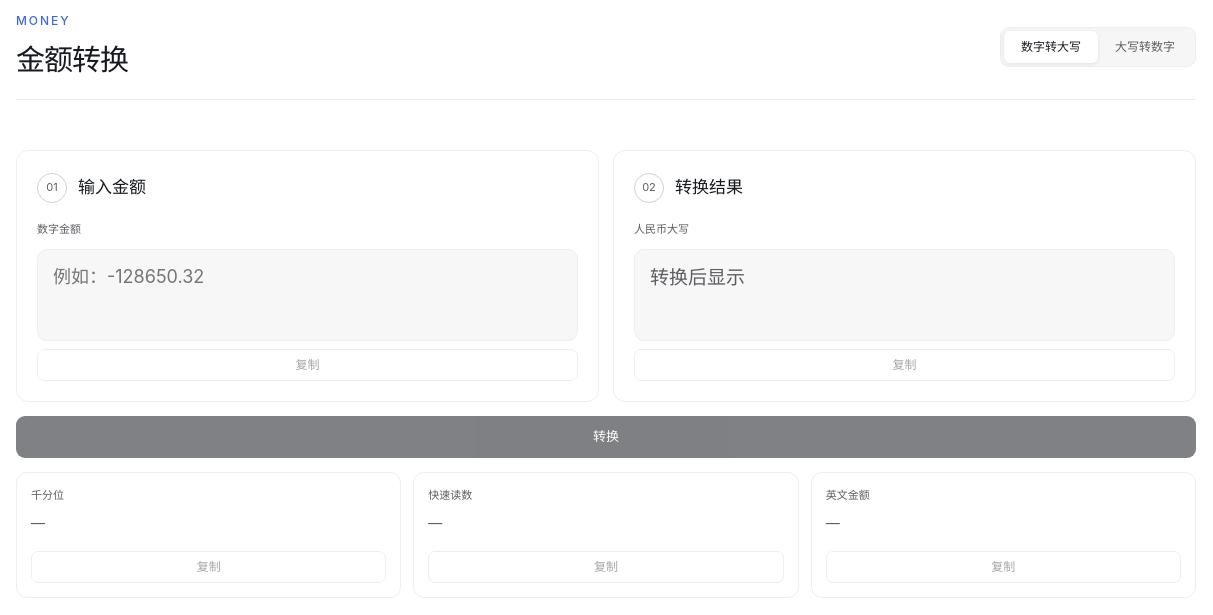
Test: normalizes round to yuan in the input panel and carries the canonical pair
The width and height of the screenshot is (1213, 615).
Click the button "大写转数字".
click(1145, 47)  # box [1098, 31, 1192, 63]
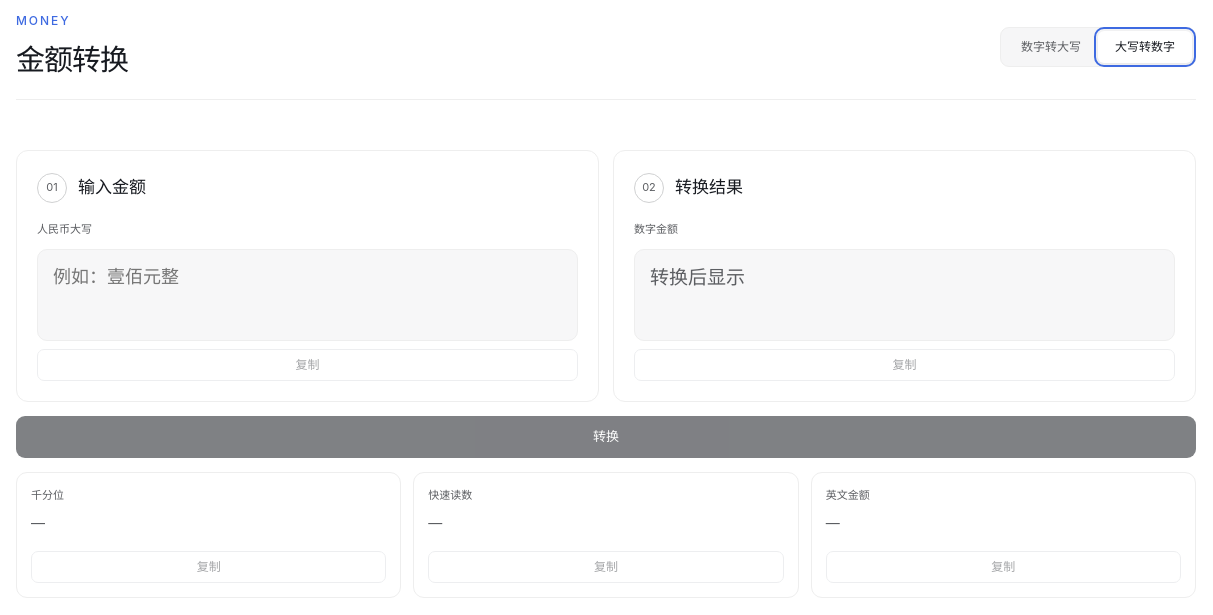
Type "肆圆整" into the text box labelled "人民币大写".
click(308, 294); type("肆圆整")  # box [53, 262, 562, 326]
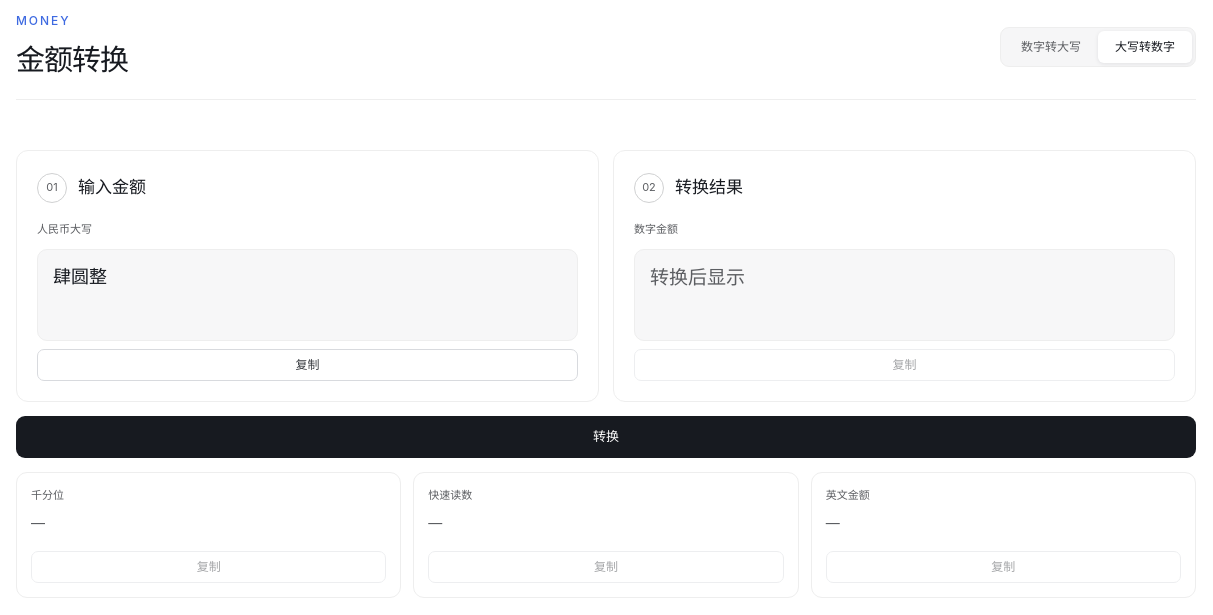
Click the button "转换".
click(606, 436)  # box [16, 416, 1196, 458]
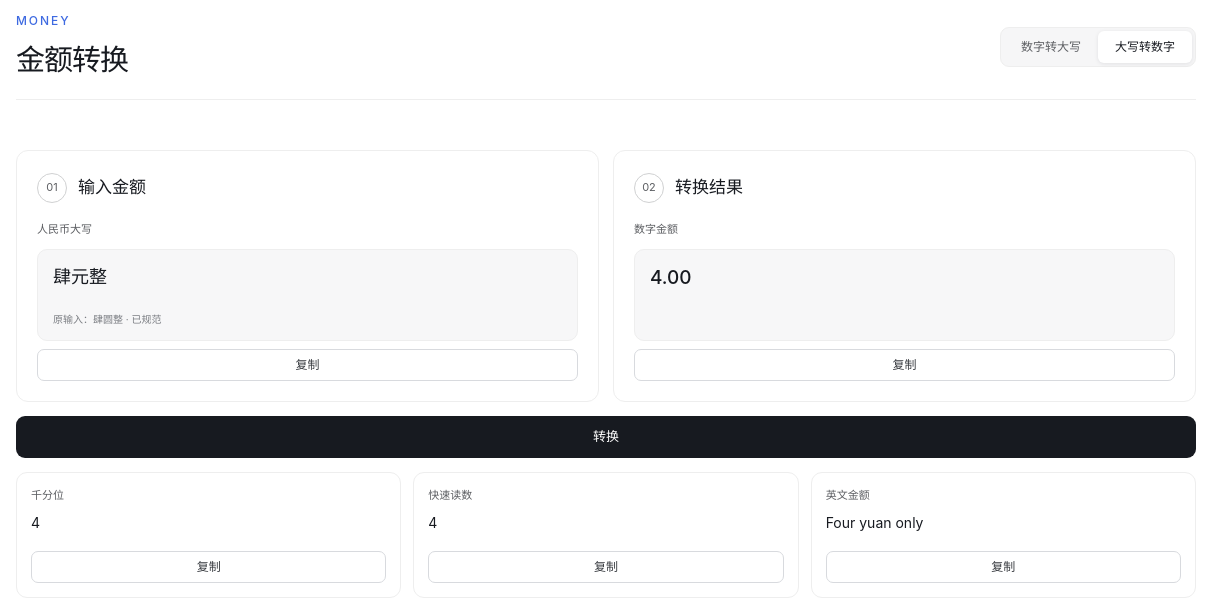
Check: the text "4.00" is shown, box [650, 266, 692, 288]
Check: the text box labelled "人民币大写" holds "肆元整", box [53, 262, 562, 311]
Check: the text "原输入：肆圆整 · 已规范" is shown, box [53, 313, 162, 325]
Click the button "数字转大写".
click(1051, 47)  # box [1004, 31, 1098, 63]
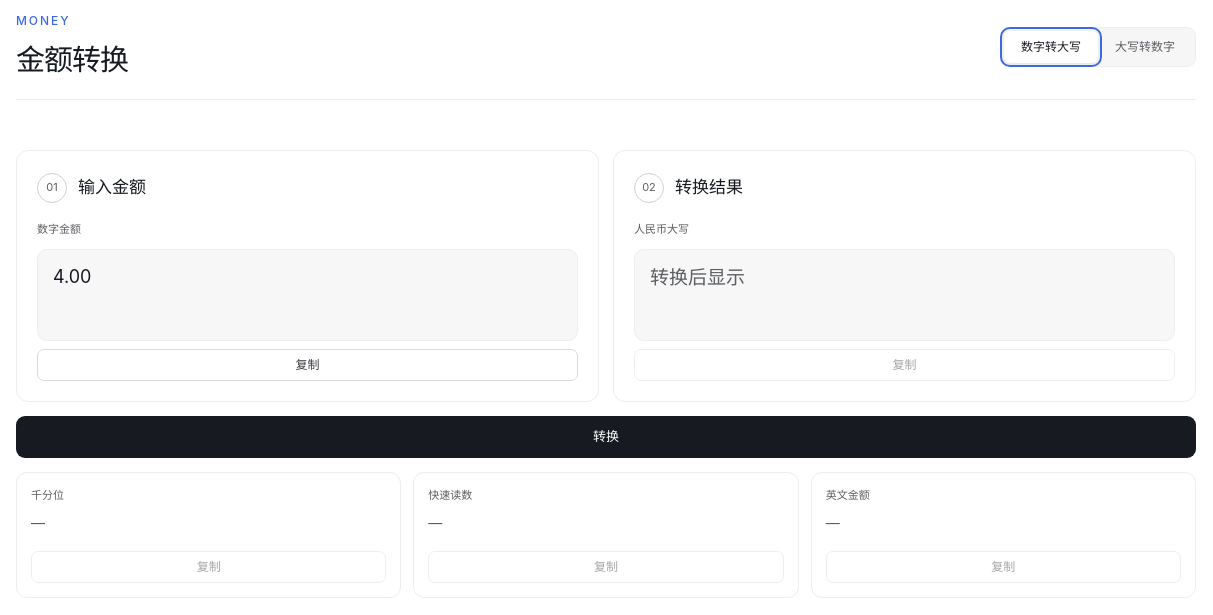
Check: the text box labelled "数字金额" holds "4.00", box [53, 262, 562, 326]
